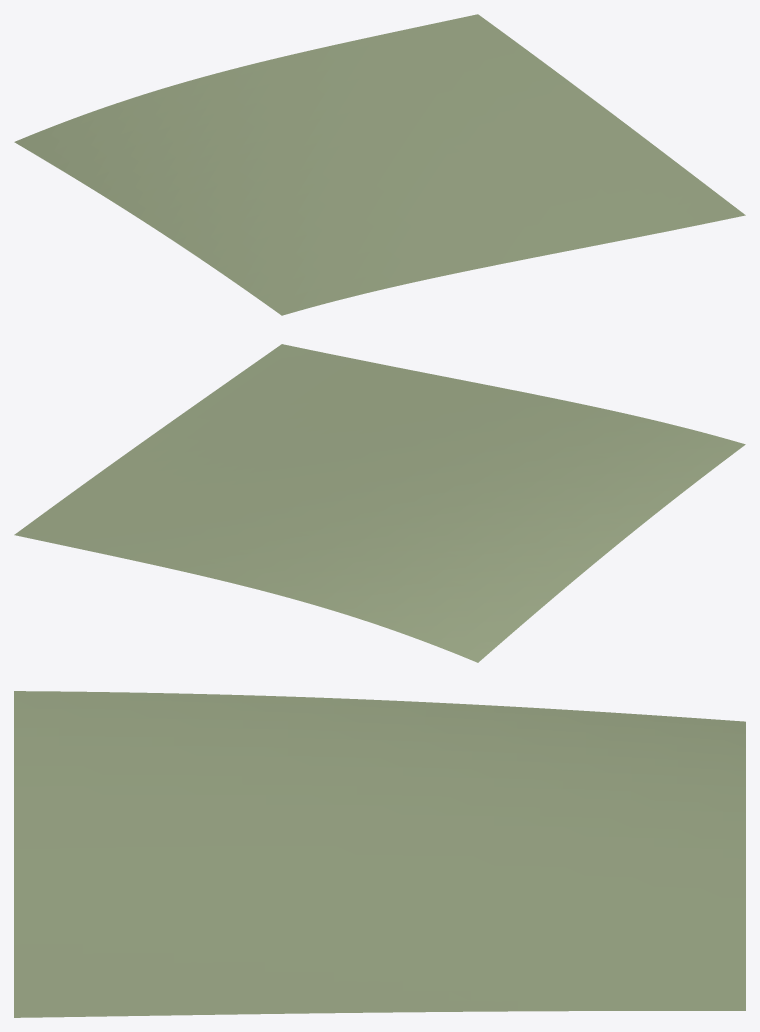
The model's file is expanse-6-29.glb.
3 views of the same model, one above another, from view 1: azimuth 30°, elevation 25°; view 2: azimuth 150°, elevation 25°; view 3: azimuth 270°, elevation 25° (orthographic). The views are drawn at different scales.
Visible parts, largest first — view 1: expanse-6-29; view 2: expanse-6-29; view 3: expanse-6-29.
Boxes of the visible parts, <box> form: expanse-6-29: <box>14,14,745,315</box>; expanse-6-29: <box>14,344,745,662</box>; expanse-6-29: <box>14,691,745,1017</box>.
Bounding box in the file's own units: 256 × 12.93 × 256.
